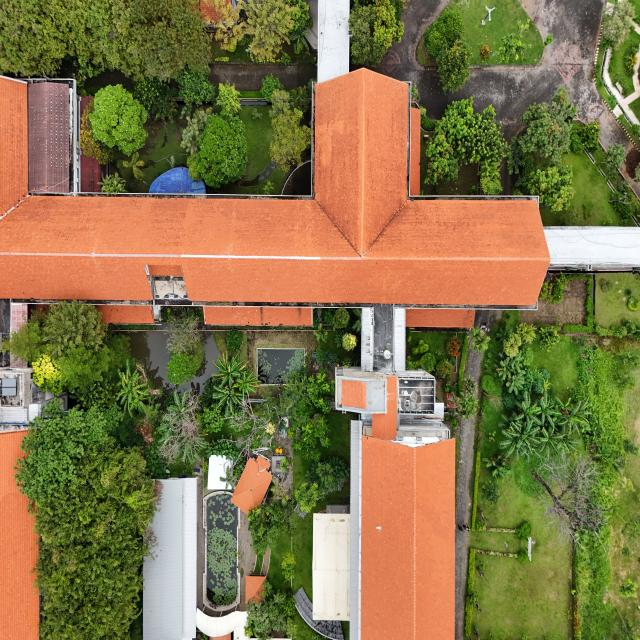Tree: (187, 112, 252, 184), (90, 84, 148, 153), (215, 352, 253, 410), (113, 367, 152, 414), (439, 41, 469, 87), (294, 481, 324, 514), (169, 390, 193, 424), (533, 395, 558, 424), (470, 326, 486, 352), (341, 332, 358, 353)
